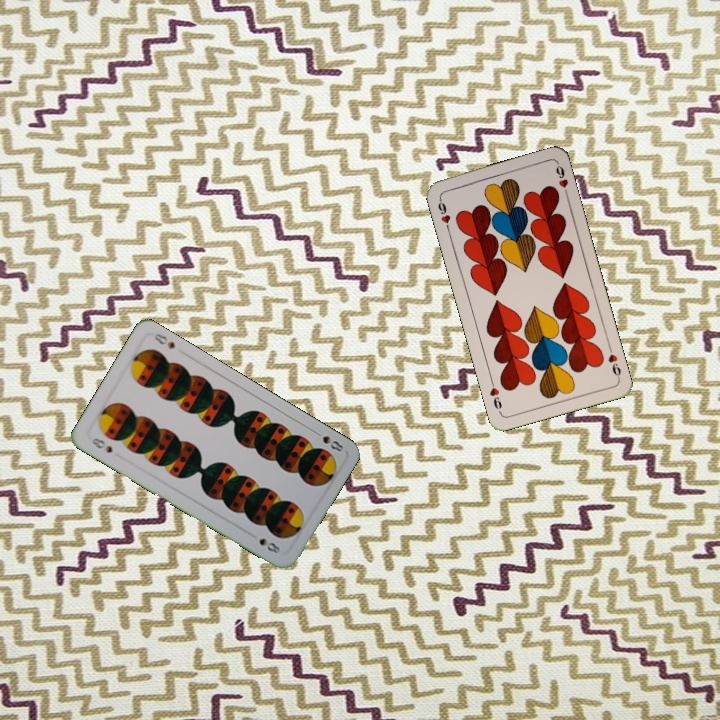H9: (604, 342, 623, 382), (434, 194, 453, 234)
S8: (309, 426, 346, 454), (87, 433, 115, 456)
